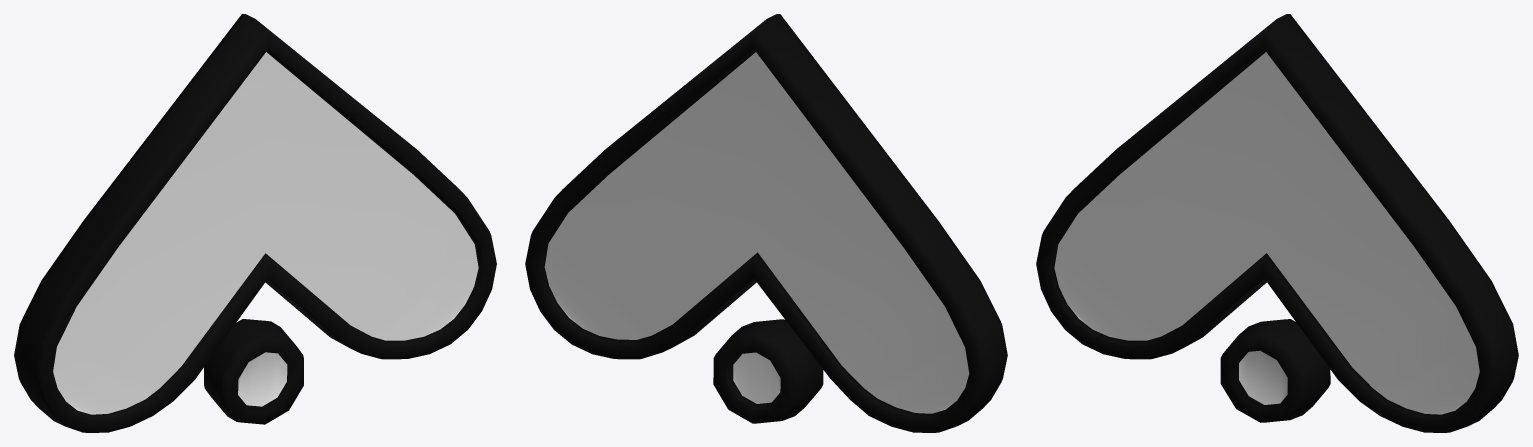
Rendered from Pats_Note.fbx.
3 views of the same model, side by side, from view 1: azimuth 30°, elevation 25°; view 2: azimuth 150°, elevation 25°; view 3: azimuth 330°, elevation 25° (orthographic).
Parts seen in each view (by area): view 1: ArrowMesh; view 2: ArrowMesh; view 3: ArrowMesh.
Boxes of the visible parts, x1,y1,x2,y2 form: ArrowMesh: [14, 14, 496, 432]; ArrowMesh: [525, 14, 1007, 432]; ArrowMesh: [1036, 14, 1518, 432].
Bounding box in the file's own units: 114 × 93.48 × 12.03.
Materials: 1 (1 with a texture image).
